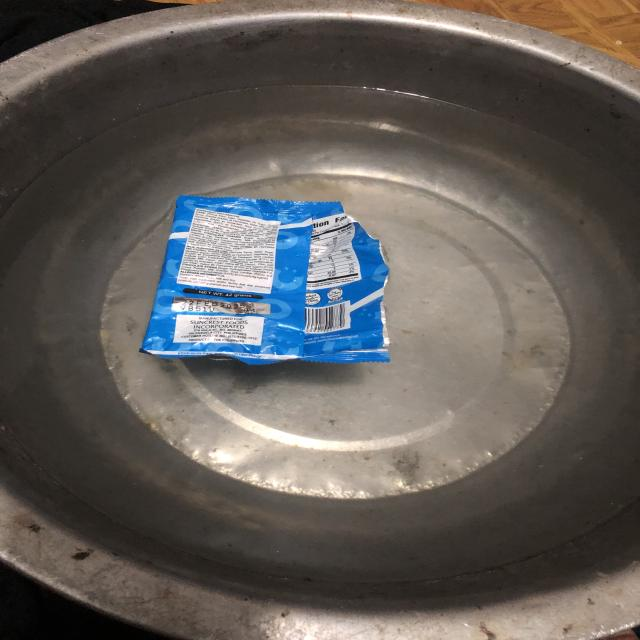Plastic Wrapper: (121, 173, 421, 378)
